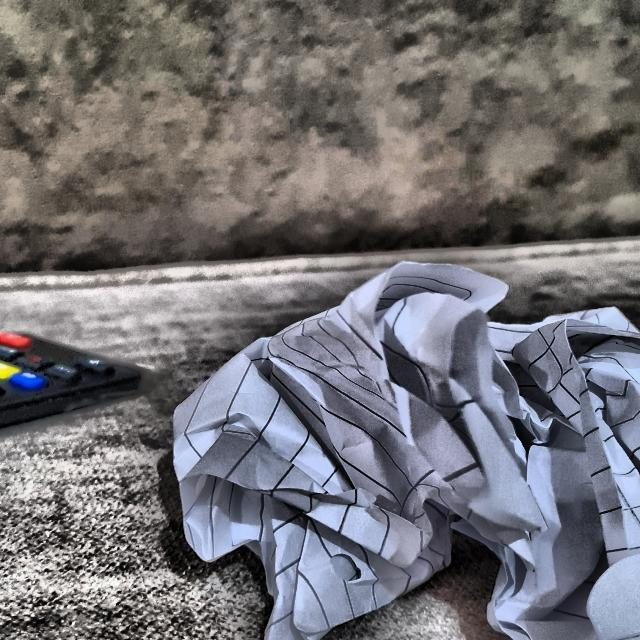paper: (189, 274, 640, 640)
